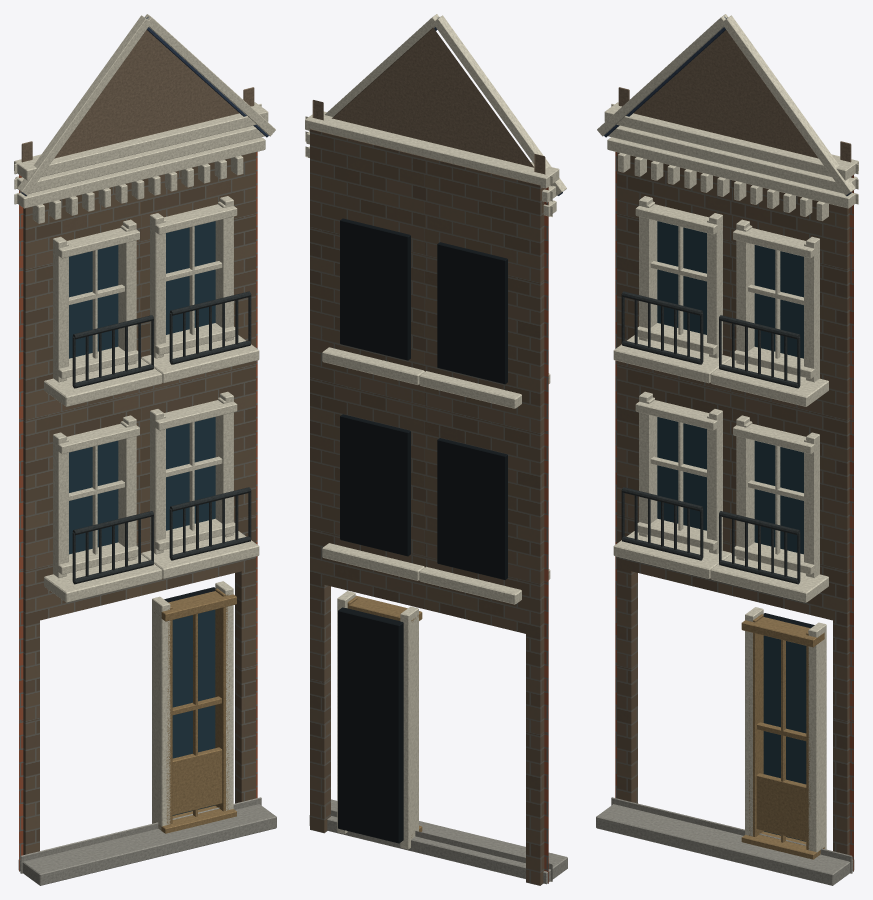
File: VICT29_lod1.glb
3 views of the same model, side by side, from view 1: azimuth 30°, elevation 25°; view 2: azimuth 150°, elevation 25°; view 3: azimuth 330°, elevation 25° (orthographic).
Visible parts, largest first — view 1: VICT29_FRONT_LOD1; view 2: VICT29_FRONT_LOD1; view 3: VICT29_FRONT_LOD1.
Boxes of the visible parts, left/top/right/bottom form: VICT29_FRONT_LOD1: left=14, top=14, right=276, bottom=885; VICT29_FRONT_LOD1: left=305, top=14, right=567, bottom=885; VICT29_FRONT_LOD1: left=596, top=14, right=858, bottom=885.
Bounding box in the file's own units: 3.53 × 11.05 × 0.8592.
11 materials, 9 textured.
